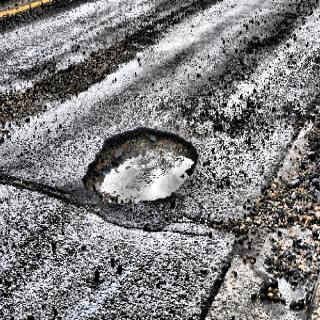pothole: (83, 127, 202, 218)
